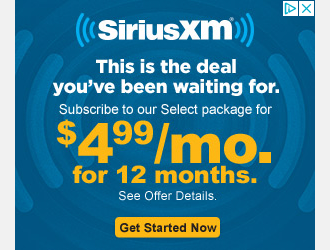fake_button: (114, 213, 223, 240), (278, 0, 317, 22)
